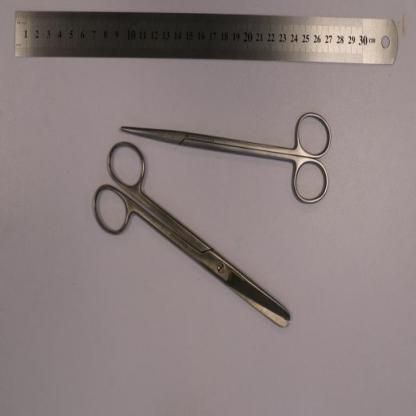7 Metzenbaum Scissors: (121, 110, 332, 207)
Dressing Scissors: (89, 140, 291, 327)
